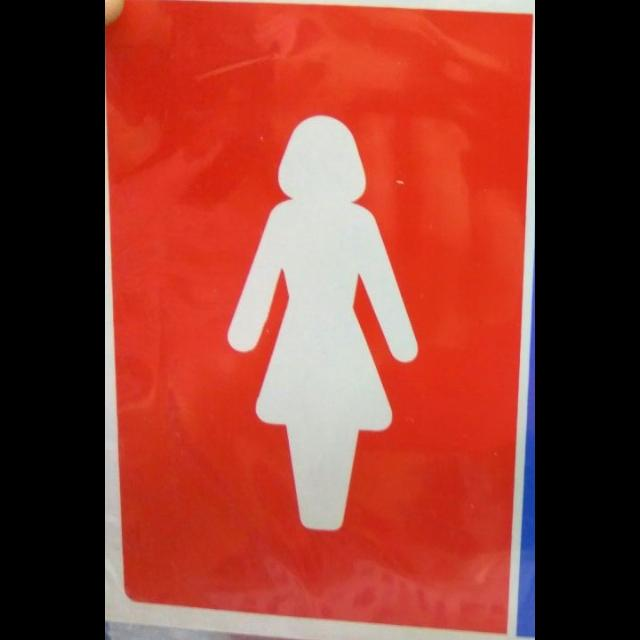wc nu: (105, 0, 534, 639)
